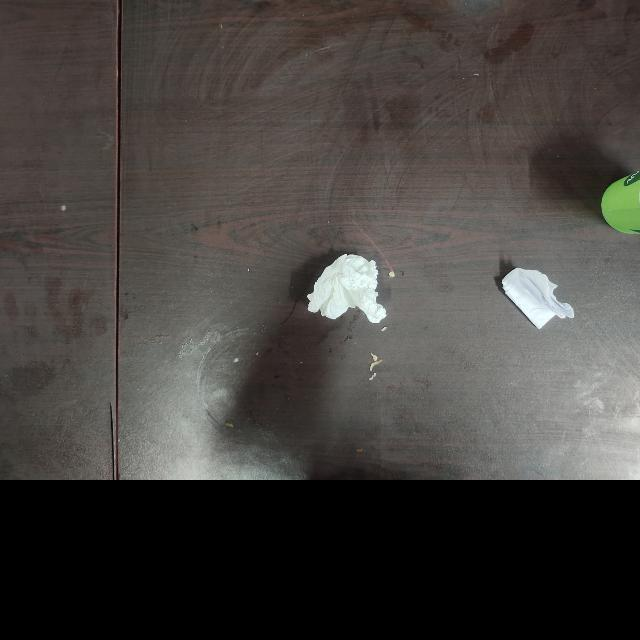kitchen paper: (305, 251, 389, 329), (498, 265, 580, 331)
